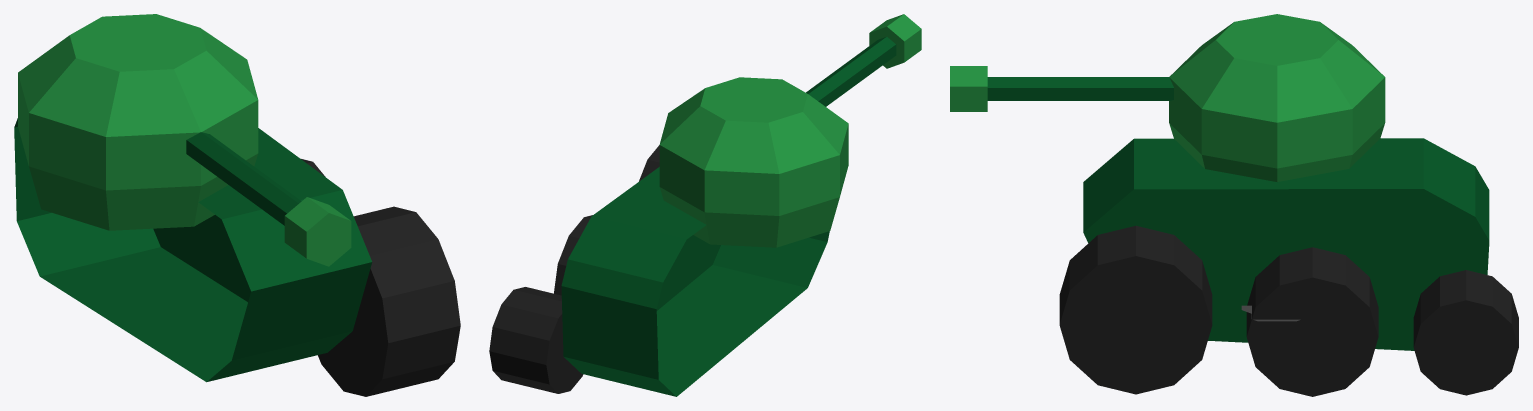
Rendered from tank.glb.
3 views of the same model, side by side, from view 1: azimuth 30°, elevation 25°; view 2: azimuth 150°, elevation 25°; view 3: azimuth 270°, elevation 25° (orthographic). The views are drawn at different scales.
Visible parts, largest first — view 1: telo, glava, kolo01, top, top_glava; view 2: telo, glava, kolo03, top, top_glava, kolo02; view 3: telo, glava, kolo01, kolo02, kolo03, top, top_glava.
Part boxes in pixels (x1=…): telo: x1=14, y1=118, x2=372, y2=382; glava: x1=18, y1=14, x2=258, y2=230; kolo01: x1=318, y1=206, x2=460, y2=396; top: x1=186, y1=132, x2=301, y2=225; top_glava: x1=284, y1=197, x2=351, y2=266; telo: x1=561, y1=167, x2=829, y2=396; glava: x1=659, y1=77, x2=848, y2=247; kolo03: x1=489, y1=287, x2=583, y2=393; top: x1=806, y1=36, x2=896, y2=106; top_glava: x1=869, y1=14, x2=921, y2=68; kolo02: x1=554, y1=215, x2=592, y2=295; telo: x1=1083, y1=138, x2=1489, y2=350; glava: x1=1169, y1=14, x2=1385, y2=181; kolo01: x1=1059, y1=225, x2=1212, y2=394; kolo02: x1=1246, y1=247, x2=1378, y2=396; kolo03: x1=1413, y1=270, x2=1518, y2=395; top: x1=987, y1=77, x2=1173, y2=100; top_glava: x1=950, y1=66, x2=987, y2=111.
Size of the model in its own units: 2.55 by 2.53 by 4.75.
